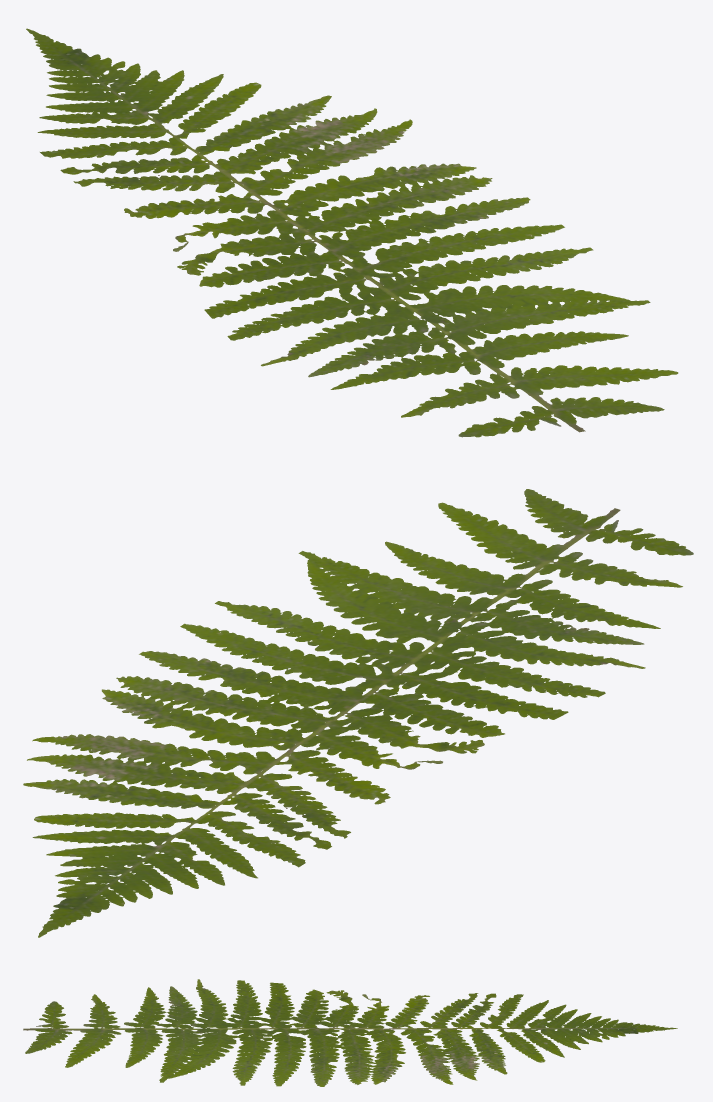
The model's file is Hoja_Prueba.fbx.
3 renders of one model, top to bottom at view 1: azimuth 30°, elevation 25°; view 2: azimuth 150°, elevation 25°; view 3: azimuth 270°, elevation 25°, orthographic. The views are drawn at different scales.
Parts seen in each view (by area): view 1: pPlane1; view 2: pPlane1; view 3: pPlane1.
Boxes of the visible parts, x1=… form: pPlane1: x1=26, y1=28, x2=678, y2=437; pPlane1: x1=23, y1=489, x2=693, y2=937; pPlane1: x1=23, y1=979, x2=677, y2=1086.
Bounding box in the file's own units: 0.3995 × 0 × 1.05.
